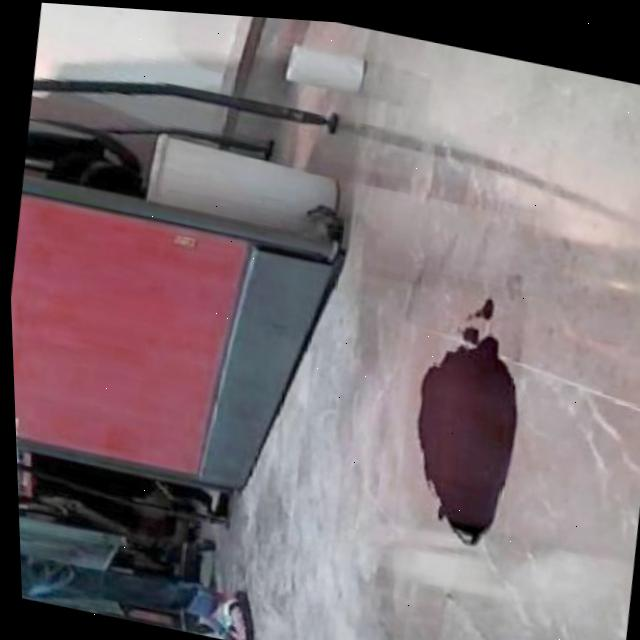spillage: (406, 276, 512, 547)
